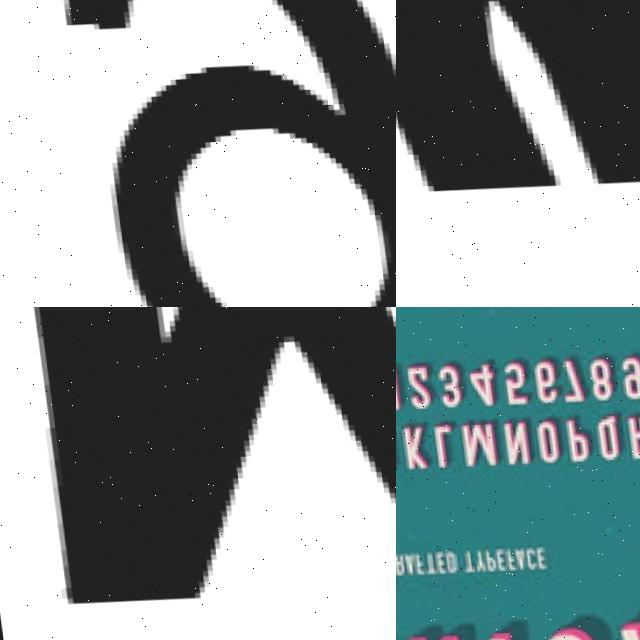2: (405, 366, 430, 411)
3: (436, 364, 462, 409)
4: (466, 361, 494, 405)
5: (501, 360, 526, 405)
6: (532, 358, 556, 403)
7: (557, 358, 584, 402)
8: (586, 356, 612, 401)
9: (36, 0, 396, 307), (618, 353, 640, 398)
M: (0, 307, 396, 618)
W: (396, 0, 640, 213)
